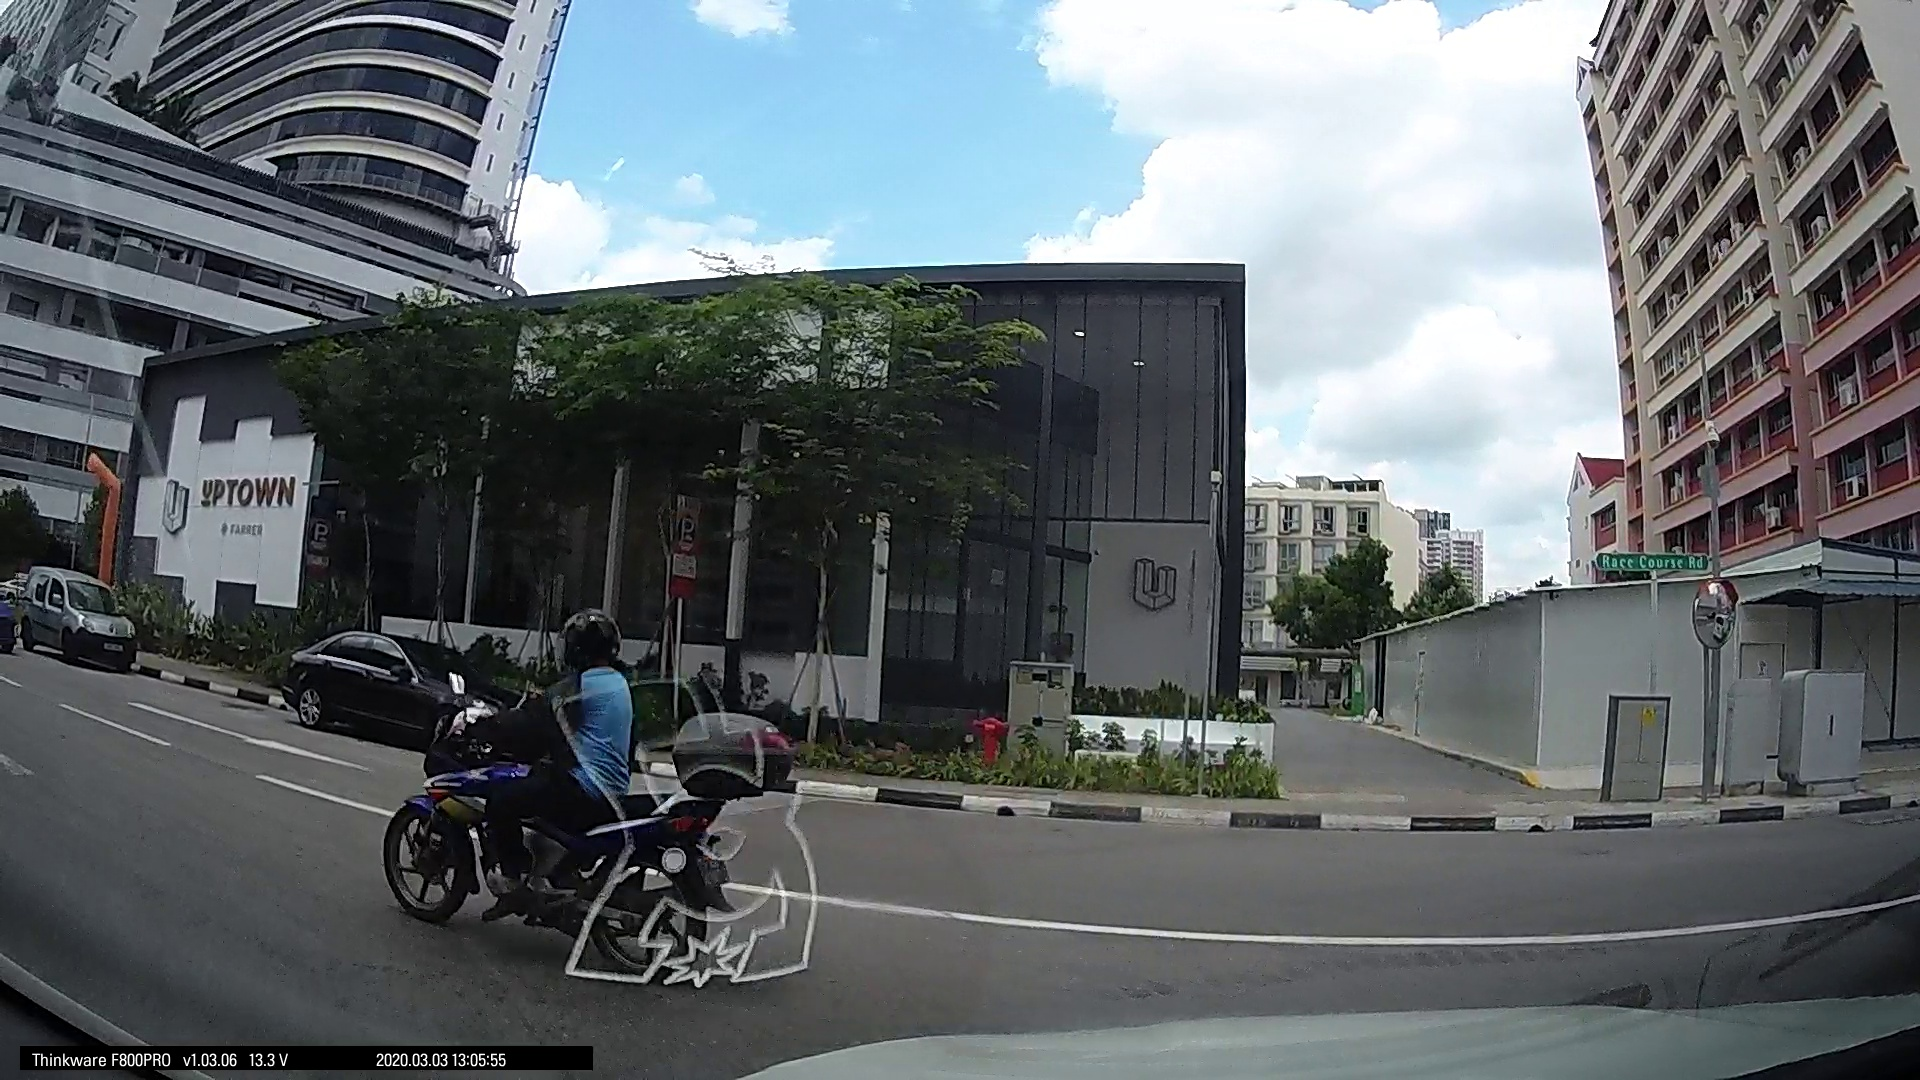Light Vehicle: (278, 625, 491, 745), (7, 560, 140, 673)
Motorcycle: (373, 645, 765, 977)
